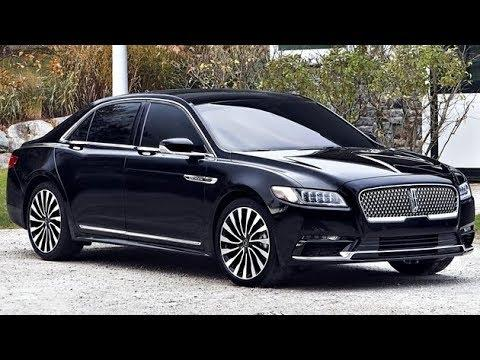lincoln: (408, 185, 421, 211)
